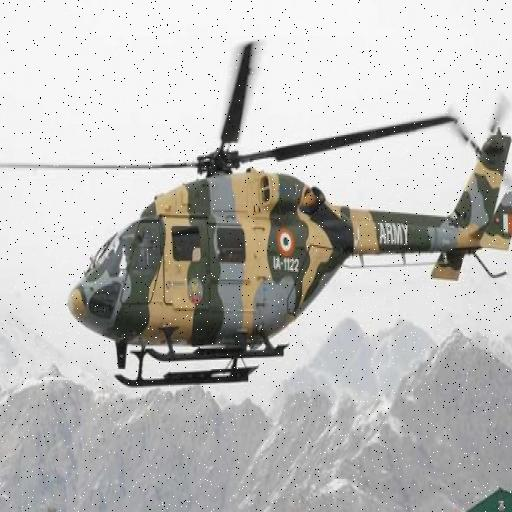helicopter: (1, 32, 512, 400)
